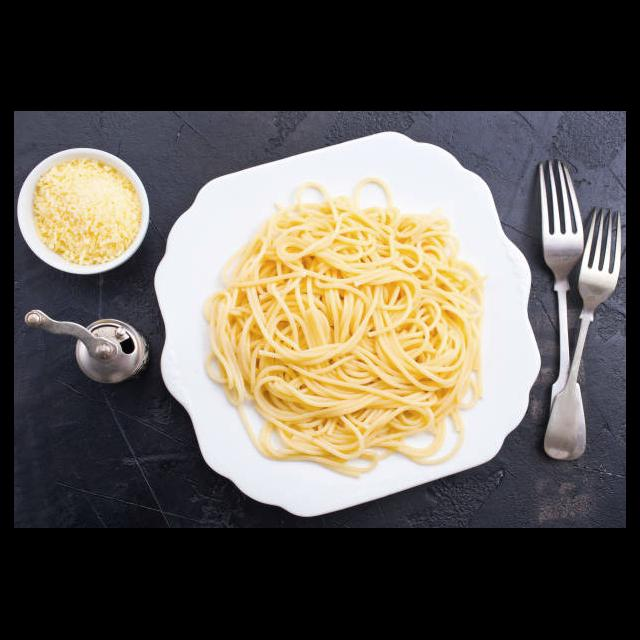noodles: (199, 177, 486, 478)
